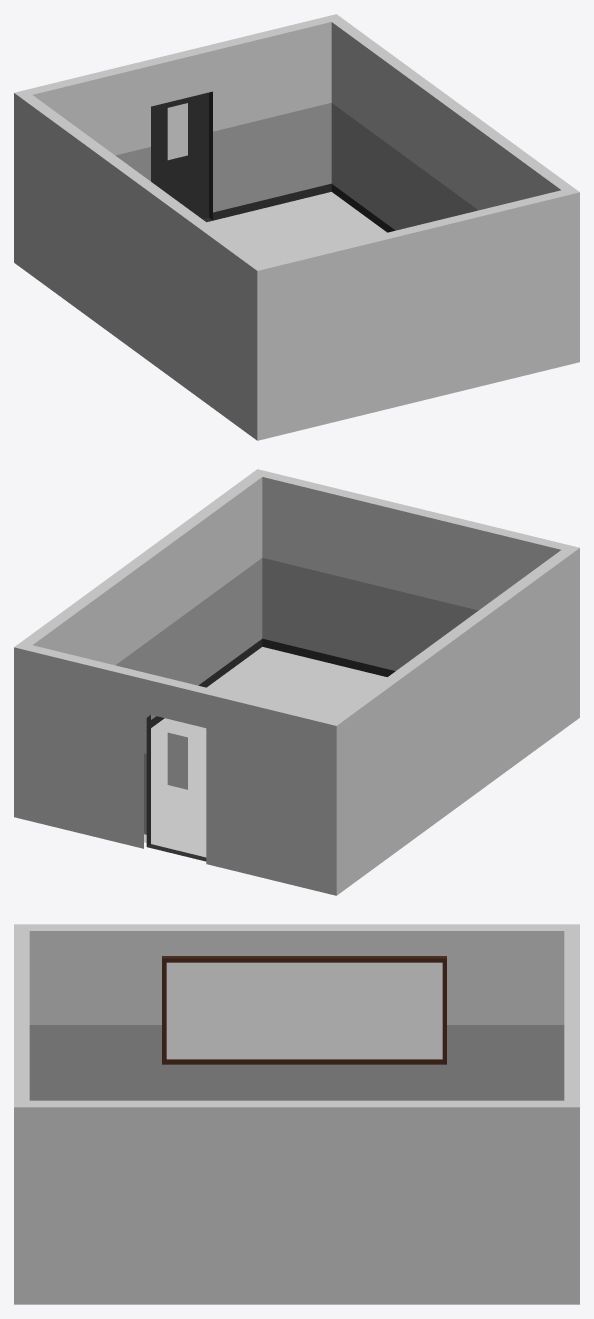
The model's file is interrogation.fbx.
3 views of the same model, one above another, from view 1: azimuth 30°, elevation 25°; view 2: azimuth 150°, elevation 25°; view 3: azimuth 270°, elevation 25° (orthographic). The views are drawn at different scales.
Visible parts, largest first — view 1: Plane; view 2: Plane; view 3: Plane.
Boxes of the visible parts, <box> form: Plane: <box>14,14,579,440</box>; Plane: <box>14,469,579,895</box>; Plane: <box>14,924,579,1304</box>.
Size of the model in its own units: 464 by 234 by 607.
